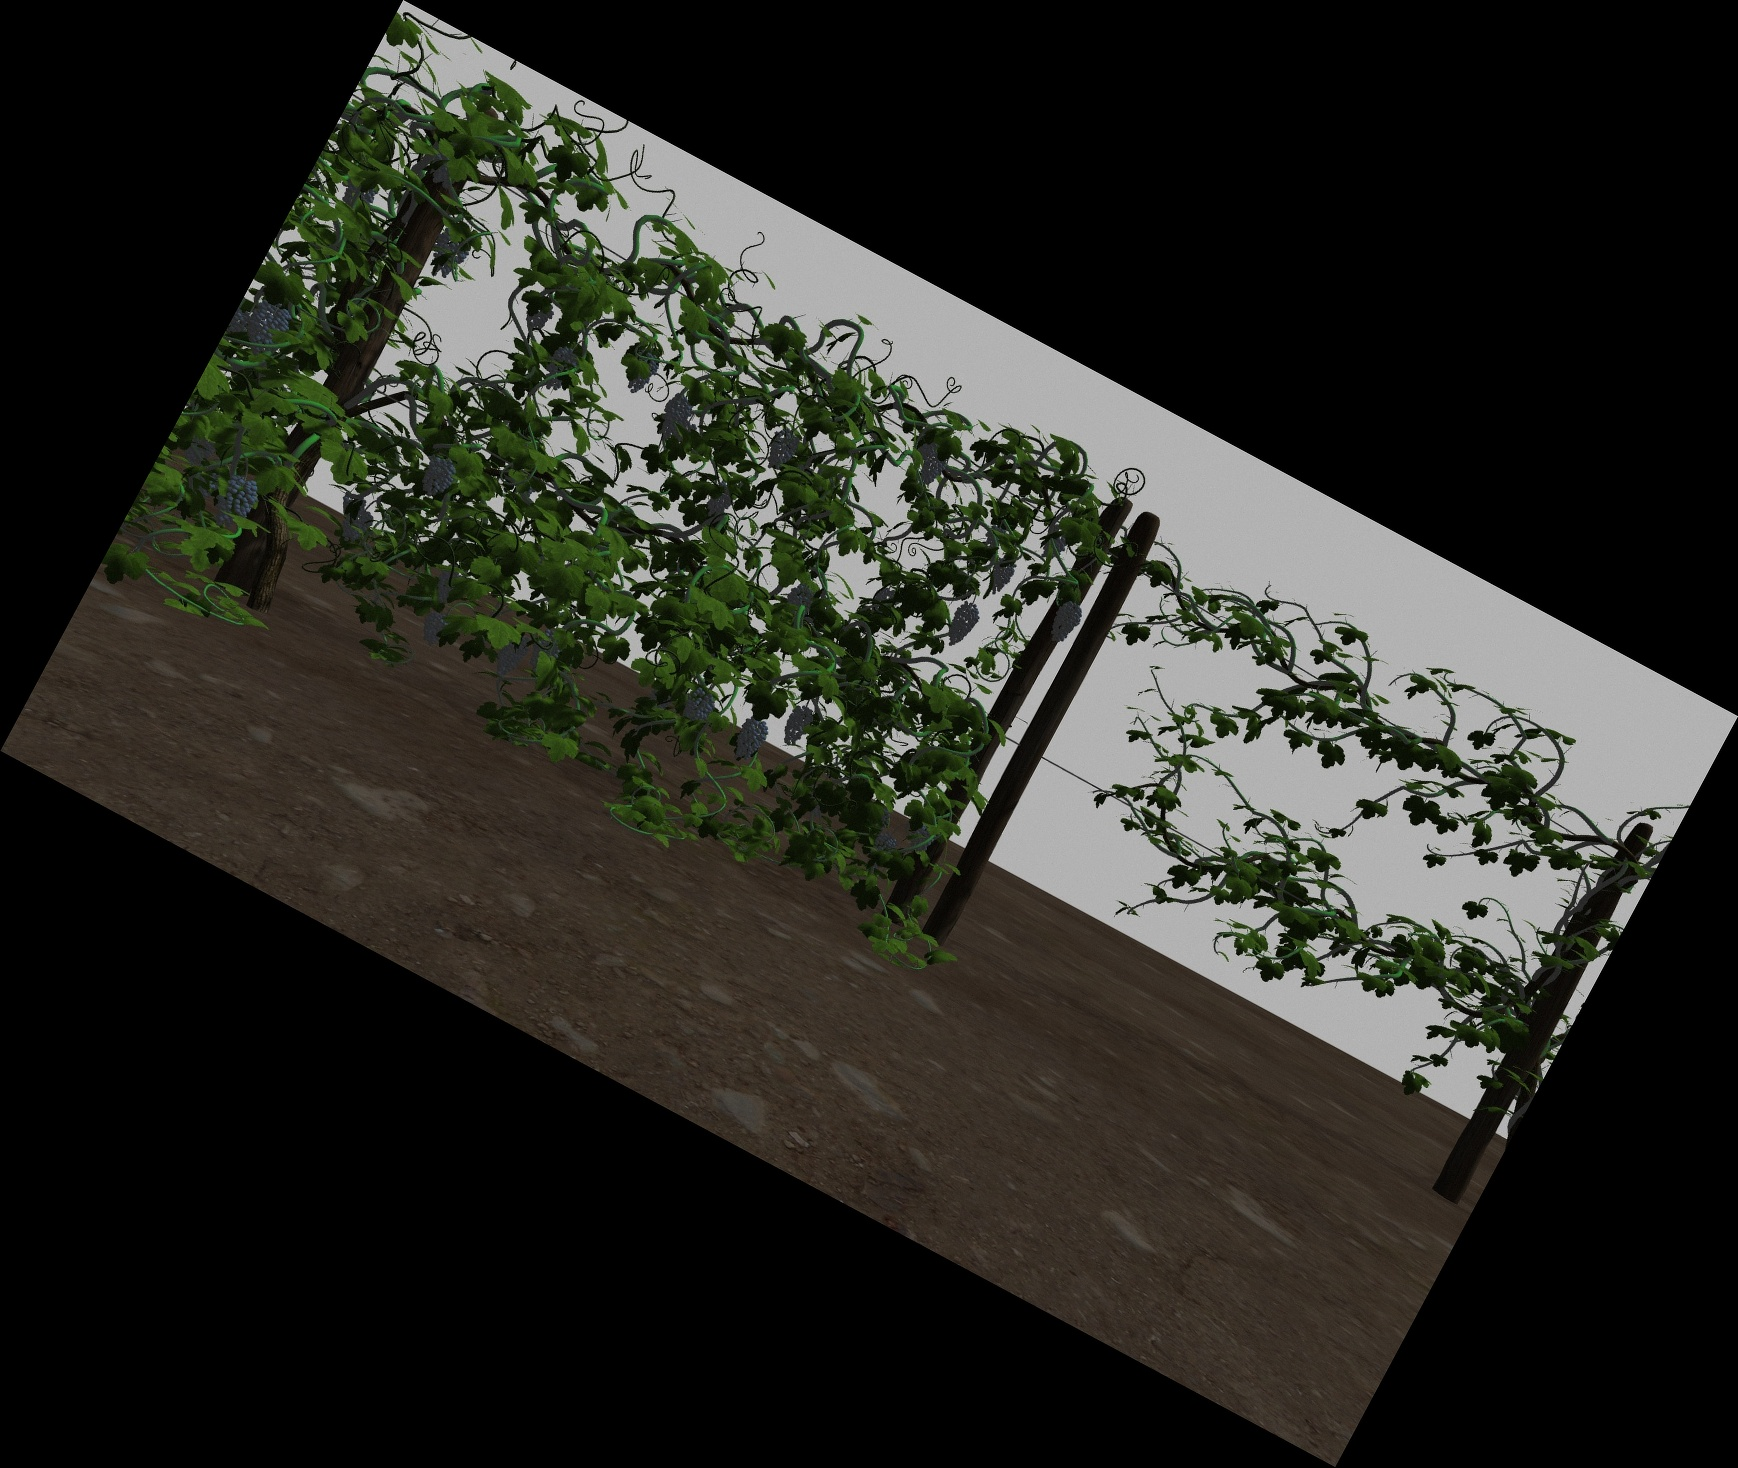grape: (248, 304, 284, 352), (217, 478, 251, 529), (433, 232, 465, 277), (424, 457, 453, 497), (530, 632, 557, 676), (661, 396, 688, 438), (737, 719, 762, 762), (1053, 601, 1077, 645), (498, 634, 522, 677), (629, 352, 654, 393), (546, 348, 571, 389), (950, 604, 973, 647), (769, 431, 794, 470), (787, 706, 809, 746), (685, 690, 712, 721), (422, 613, 449, 644), (345, 510, 369, 543), (921, 454, 943, 485), (436, 572, 457, 603), (992, 558, 1012, 590), (709, 486, 728, 518), (911, 827, 931, 853), (530, 304, 551, 331), (790, 585, 811, 606), (877, 833, 894, 852), (921, 443, 935, 459)
